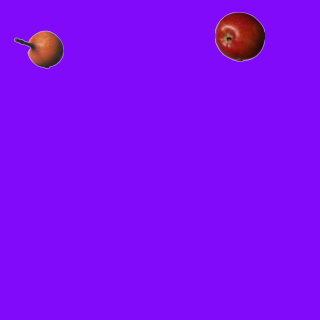Apple Braeburn: (214, 11, 264, 61)
Granadilla: (13, 24, 63, 74)
